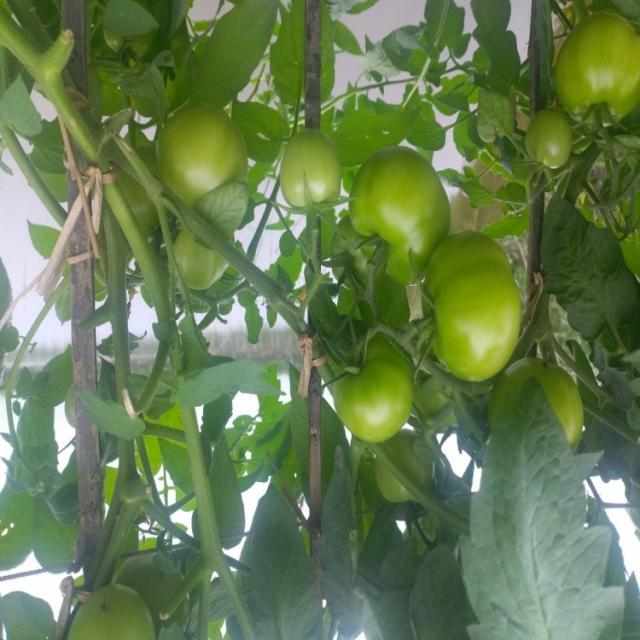tomato: (412, 230, 535, 409), (325, 328, 444, 446), (341, 156, 453, 273), (489, 343, 606, 449), (141, 99, 253, 196), (554, 21, 640, 145), (66, 573, 174, 640), (269, 133, 354, 212), (163, 215, 238, 302), (516, 102, 585, 175)
